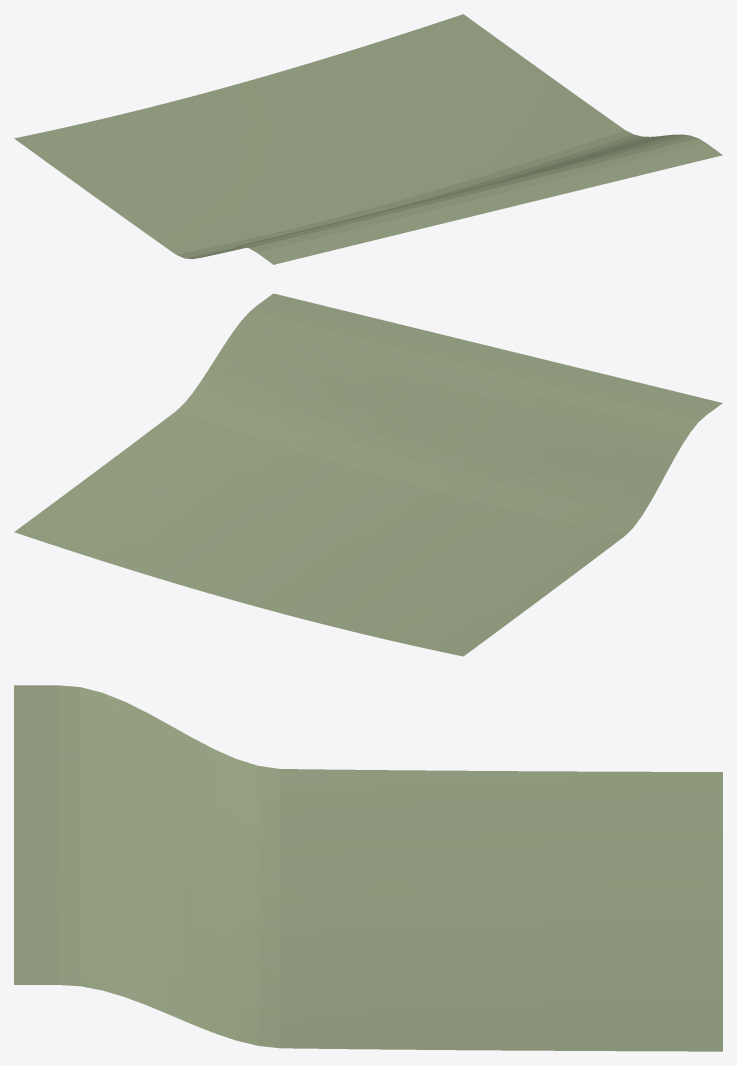
The model's file is valley-13-11.glb.
3 renders of one model, top to bottom at view 1: azimuth 30°, elevation 25°; view 2: azimuth 150°, elevation 25°; view 3: azimuth 270°, elevation 25°, orthographic. The views are drawn at different scales.
Visible parts, largest first — view 1: valley-13-11; view 2: valley-13-11; view 3: valley-13-11.
Boxes of the visible parts, x1,y1,x2,y2 form: valley-13-11: [14, 14, 722, 264]; valley-13-11: [14, 293, 722, 656]; valley-13-11: [14, 685, 722, 1051].
Size of the model in its own units: 256 by 35.7 by 256.
